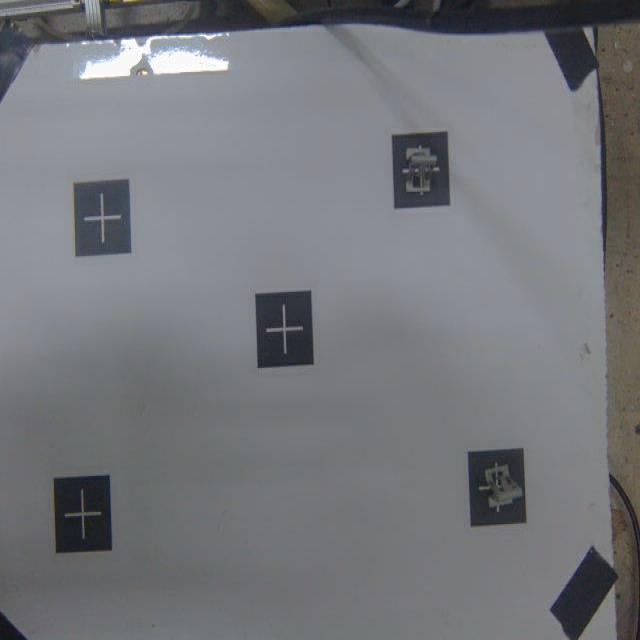pick2: (391, 134, 448, 204)
pick5: (467, 451, 530, 530)
